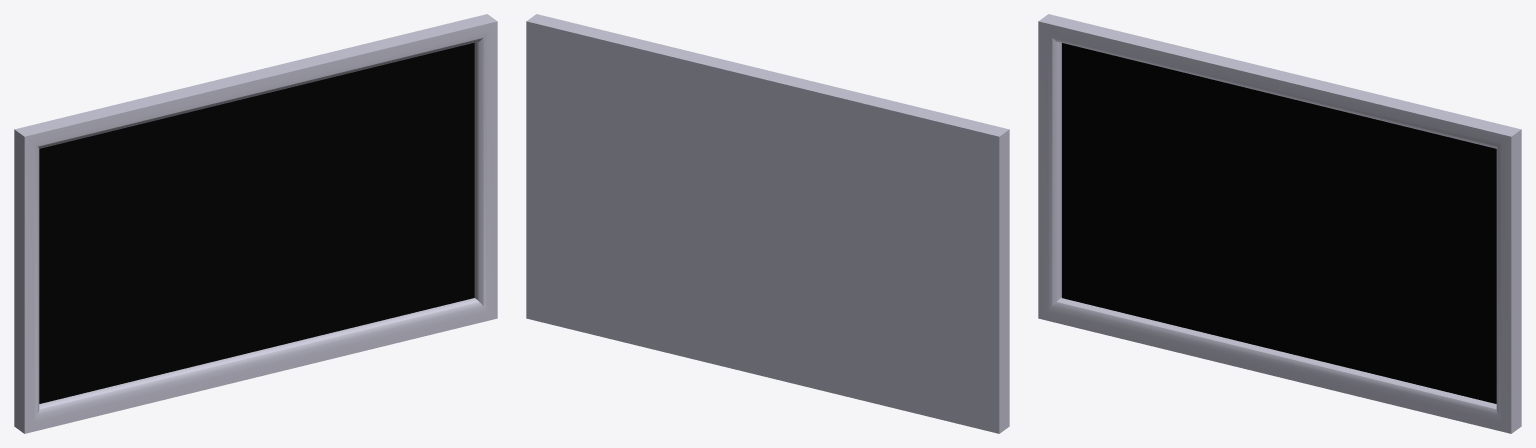
The model's file is lukisan.fbx.
3 views of the same model, side by side, from view 1: azimuth 30°, elevation 25°; view 2: azimuth 150°, elevation 25°; view 3: azimuth 330°, elevation 25° (orthographic).
Visible parts, largest first — view 1: Cube.009; view 2: Cube.009; view 3: Cube.009.
Boxes of the visible parts, bbox=[...] form: Cube.009: bbox=[14, 14, 497, 433]; Cube.009: bbox=[526, 14, 1009, 433]; Cube.009: bbox=[1038, 14, 1521, 433].
Size of the model in its own units: 385 by 231 by 14.2.
2 materials, 1 textured.
